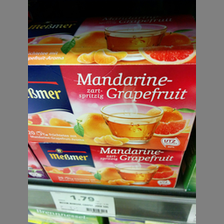tea: (28, 20, 195, 150), (28, 141, 184, 188)
